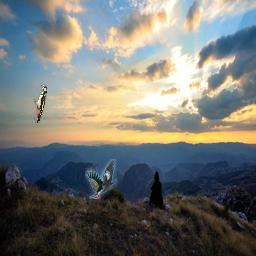Woodpecker: (85, 159, 117, 199), (33, 83, 47, 123)
